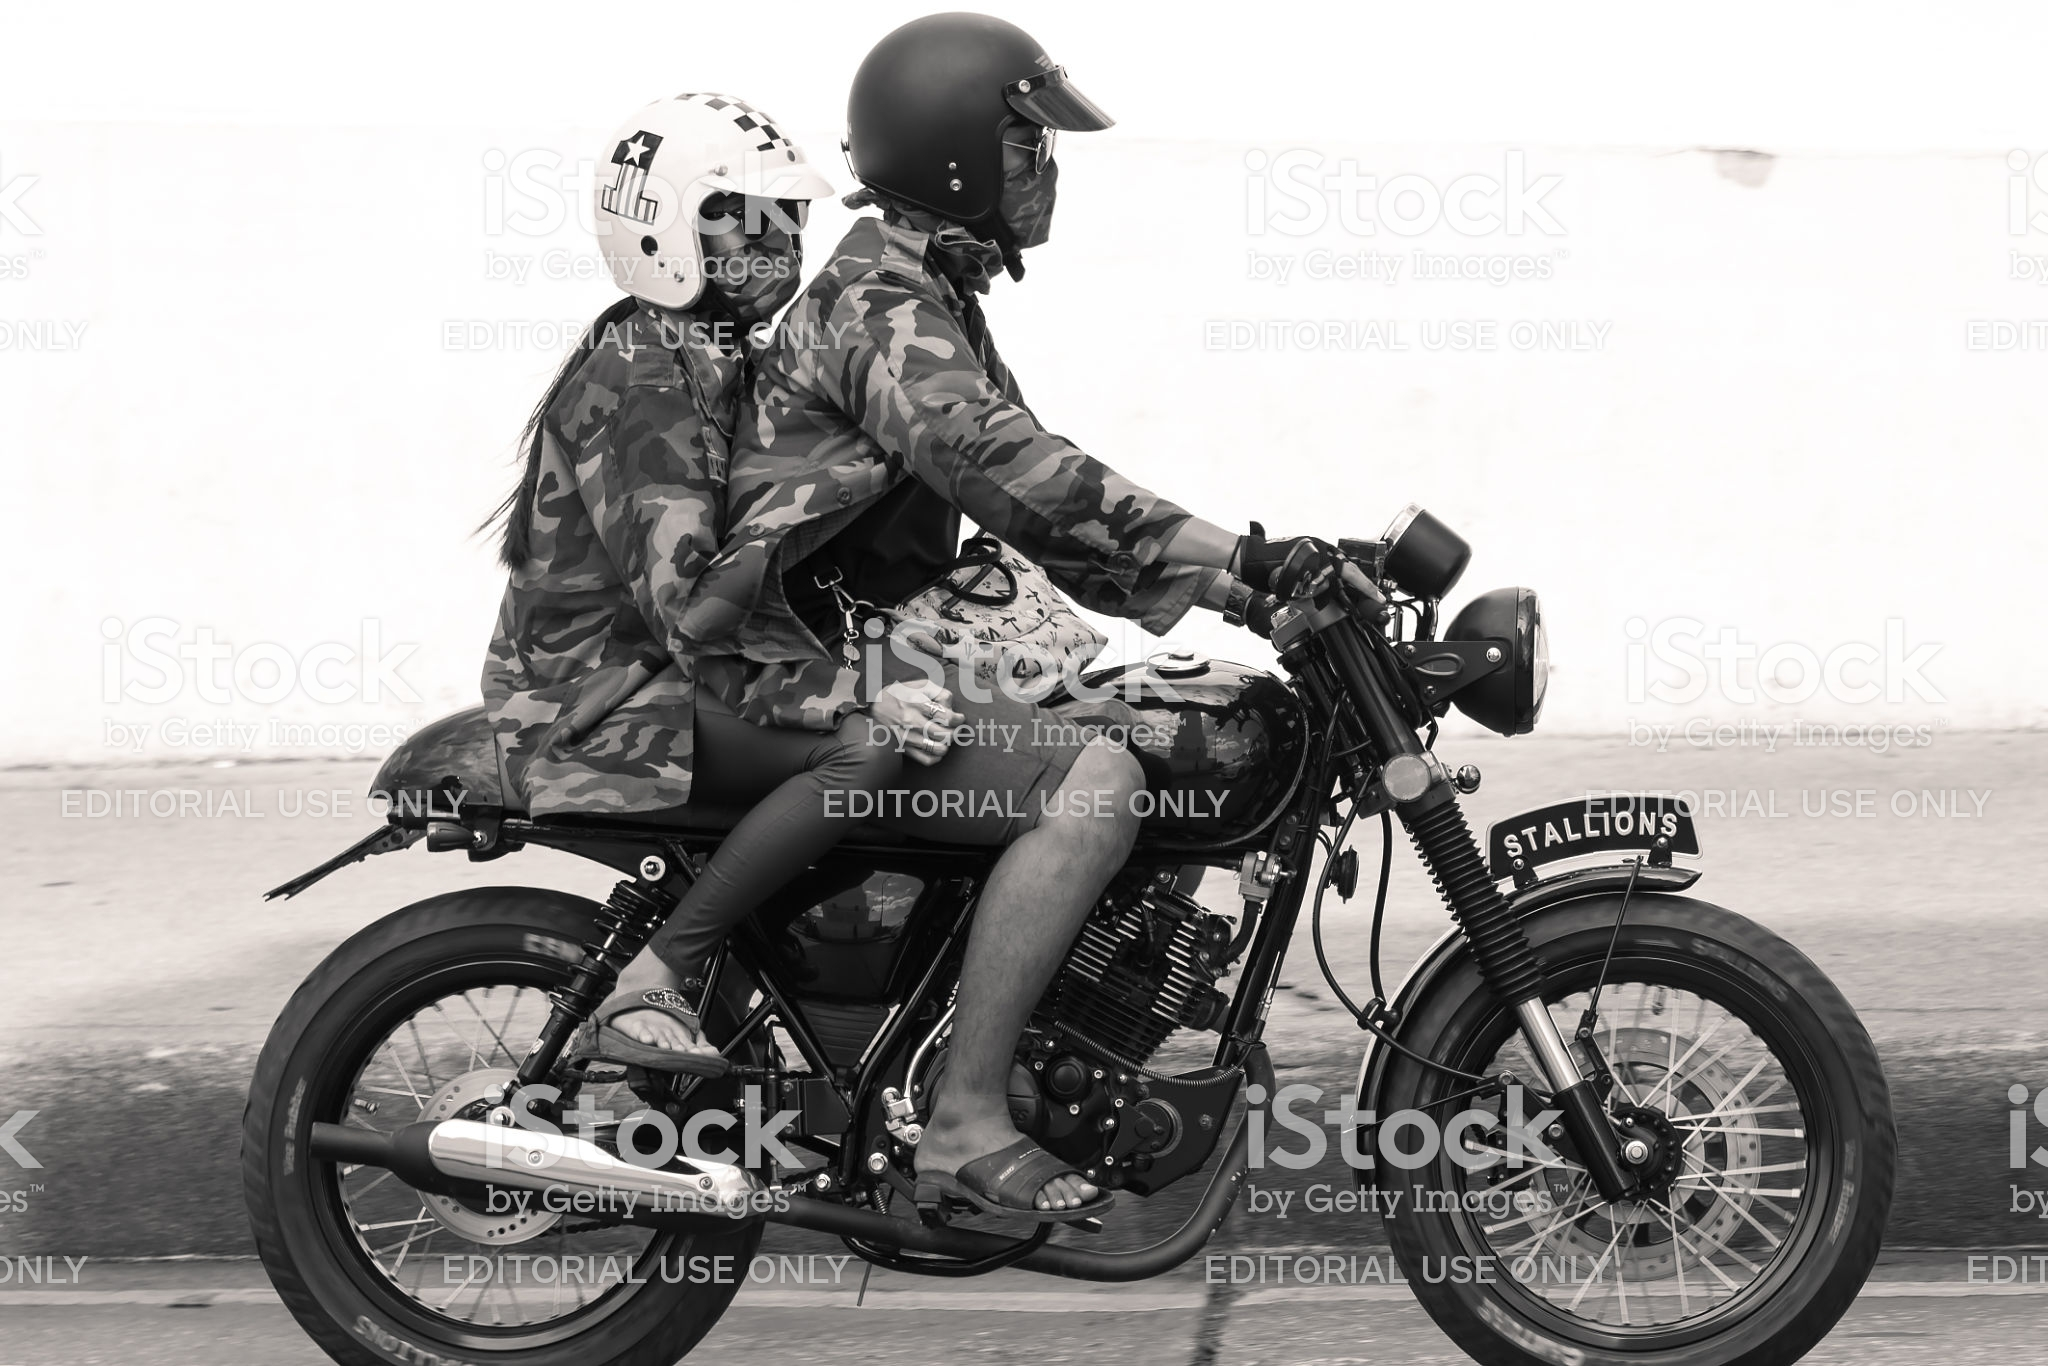helmet: (847, 17, 1117, 268), (561, 79, 834, 311)
